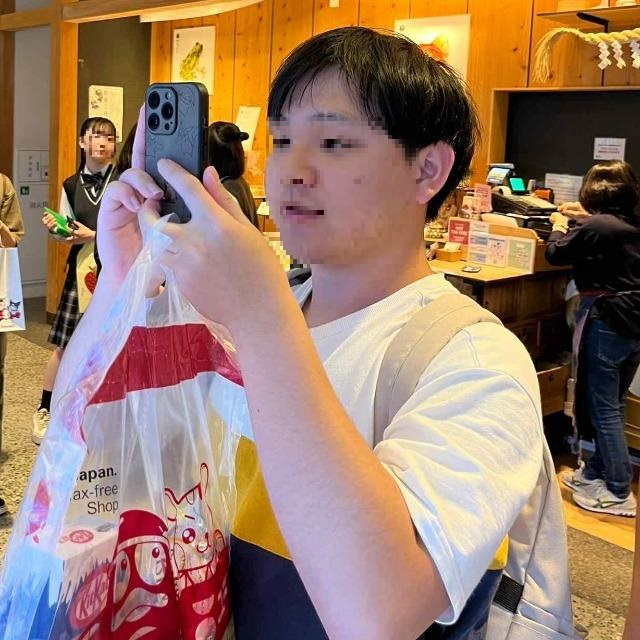NoHelmet: (253, 17, 473, 263)
